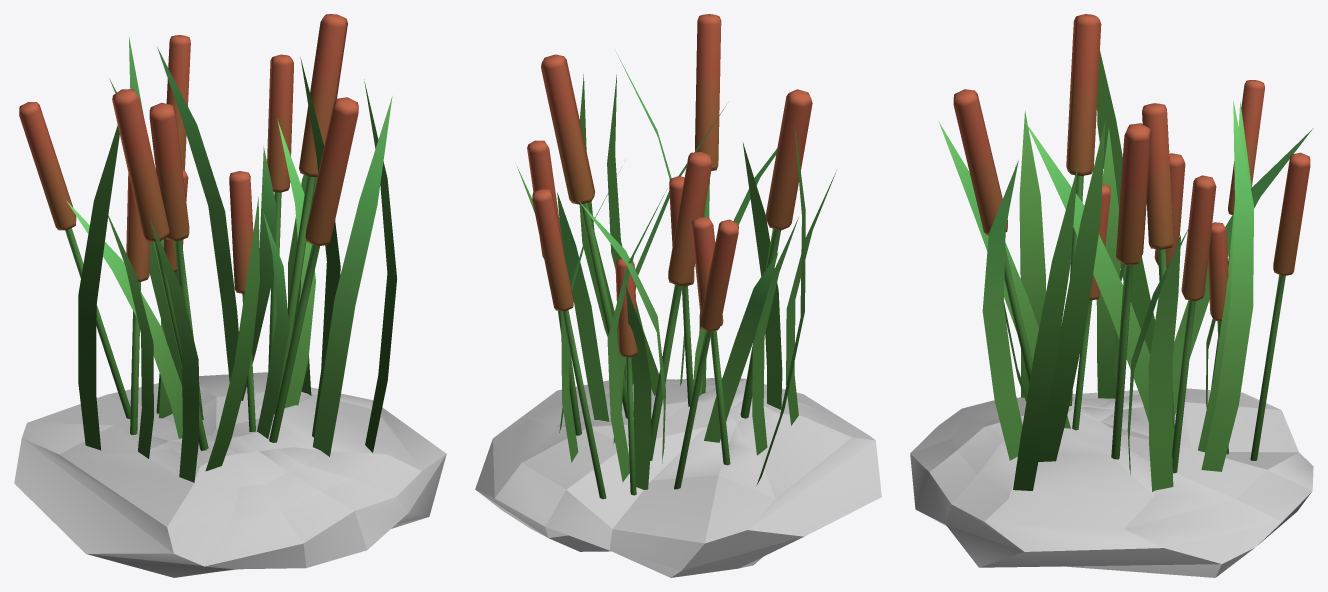
File: SM_Sw_SpecialTile_Reeds.fbx
3 renders of one model, left to right at view 1: azimuth 30°, elevation 25°; view 2: azimuth 150°, elevation 25°; view 3: azimuth 270°, elevation 25°, orthographic. The views are drawn at different scales.
Parts seen in each view (by area): view 1: SM_Sw_SpecialTile_Bush; view 2: SM_Sw_SpecialTile_Bush; view 3: SM_Sw_SpecialTile_Bush.
Part boxes in pixels (x1,y1,x2,y2): SM_Sw_SpecialTile_Bush: [14, 14, 446, 577]; SM_Sw_SpecialTile_Bush: [475, 14, 881, 577]; SM_Sw_SpecialTile_Bush: [910, 14, 1313, 577].
Size of the model in its own units: 135 by 166 by 137.
